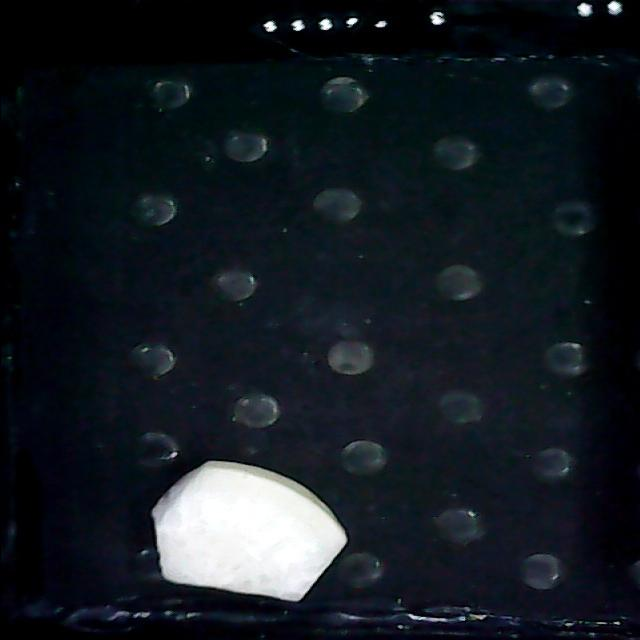-Kitchen waste - white radish-: (147, 461, 346, 602)
